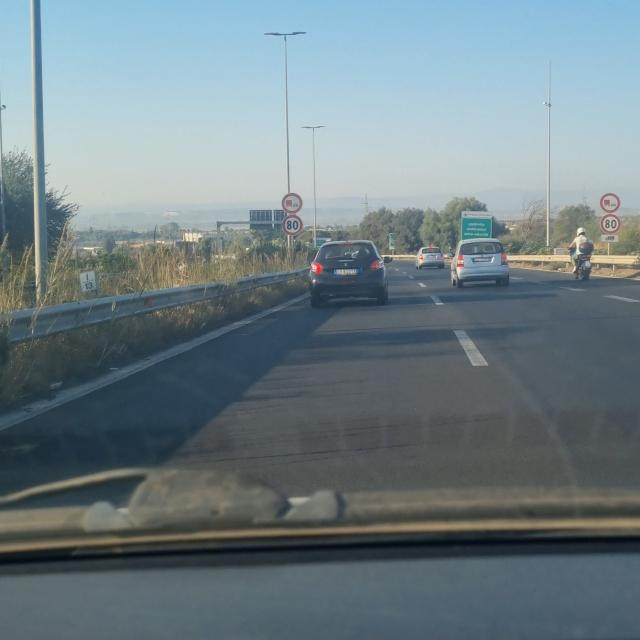forb_overtake_trucks: (599, 192, 621, 214), (282, 191, 303, 214)
forb_speed_over_80: (282, 216, 303, 236), (600, 215, 621, 234)
